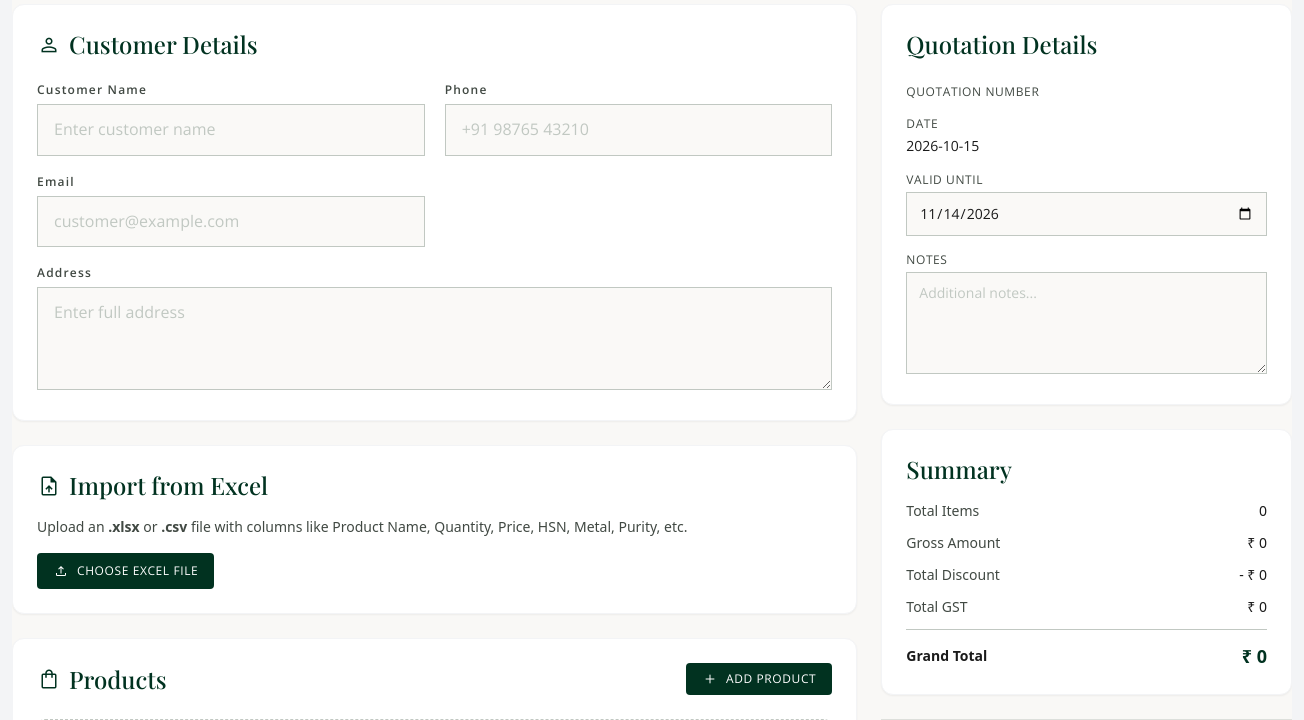
Scenario: Admin Create Quotation › SKU Lookup › changes from one SKU to another and updates product details
The width and height of the screenshot is (1304, 720).
Click the button "Add Product" at (759,679), box [686,663,832,695]
(page scrolled)
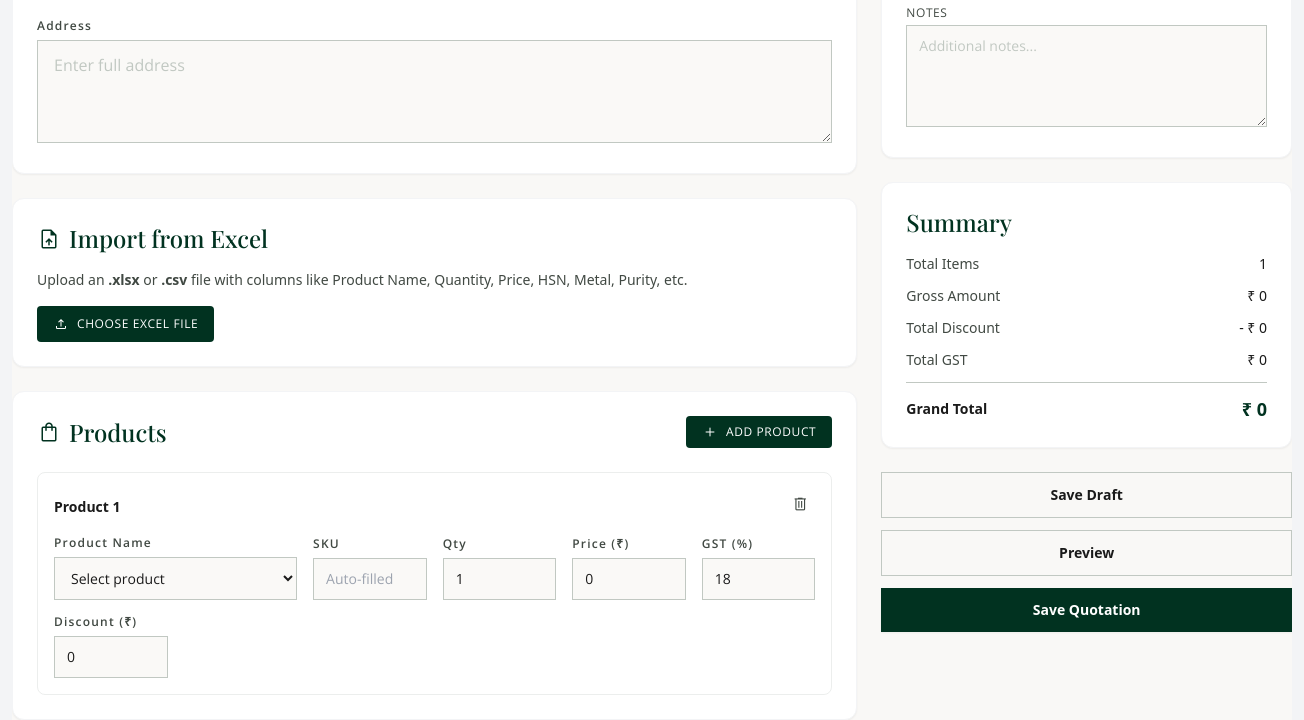
Type "SKU009" into the field with placeholder "Auto-filled" at (370,579), box [313,558,427,600]
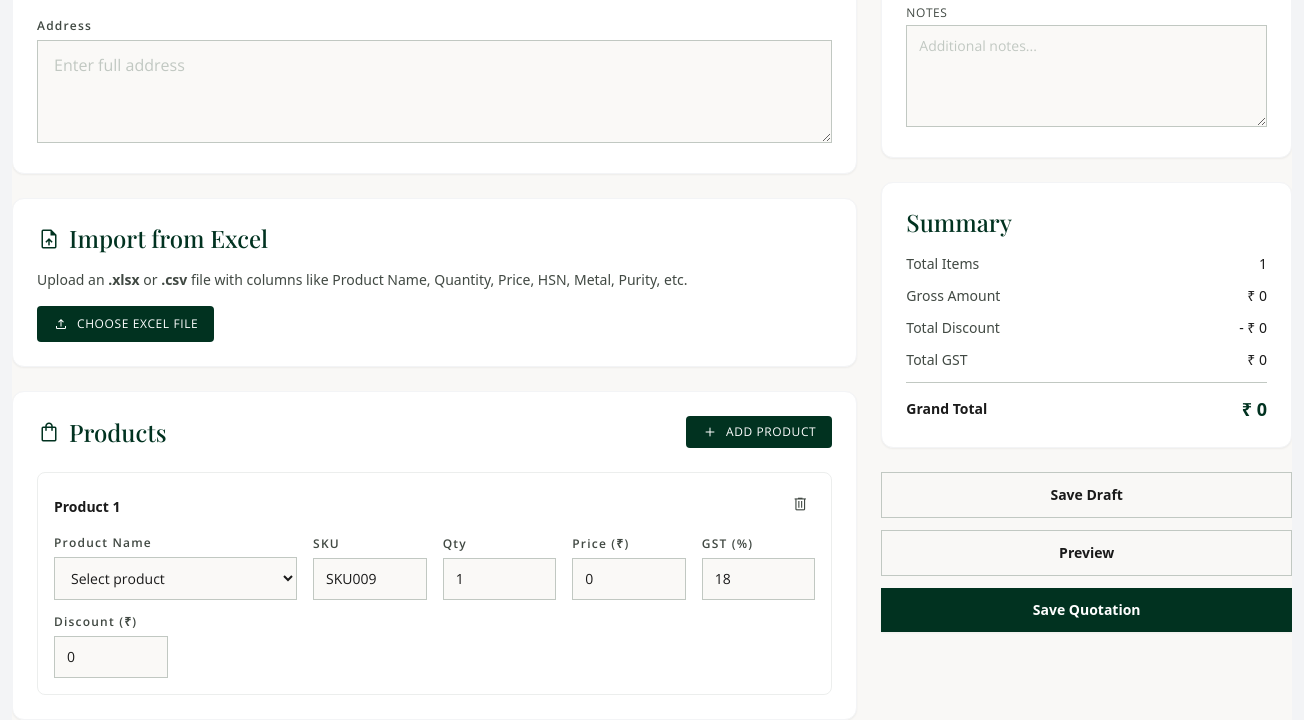
Leave the field with placeholder "Auto-filled", box [313,558,427,600]
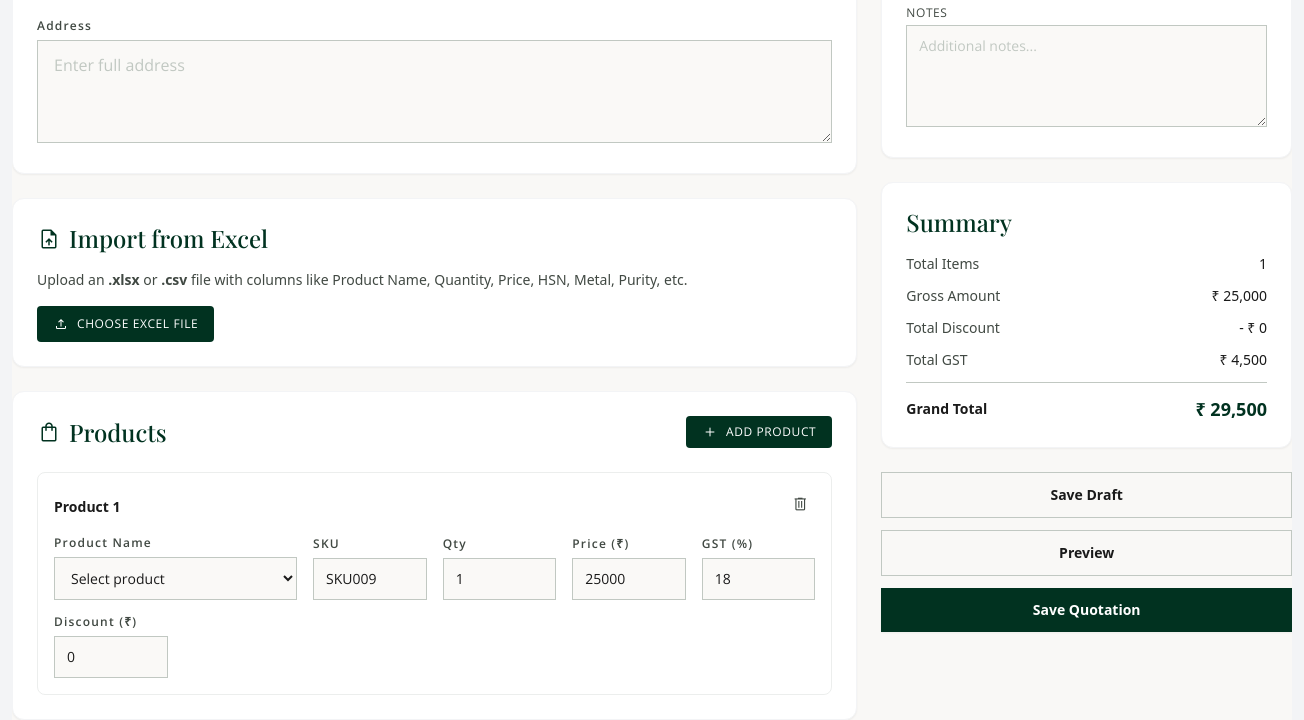
Expected: the number field with placeholder "Auto-filled" below "Price (₹)" holds "25000", [572,558,686,600]
Replace the text in the field with placeholder "Auto-filled" with "SKU010" at (370,579), box [313,558,427,600]
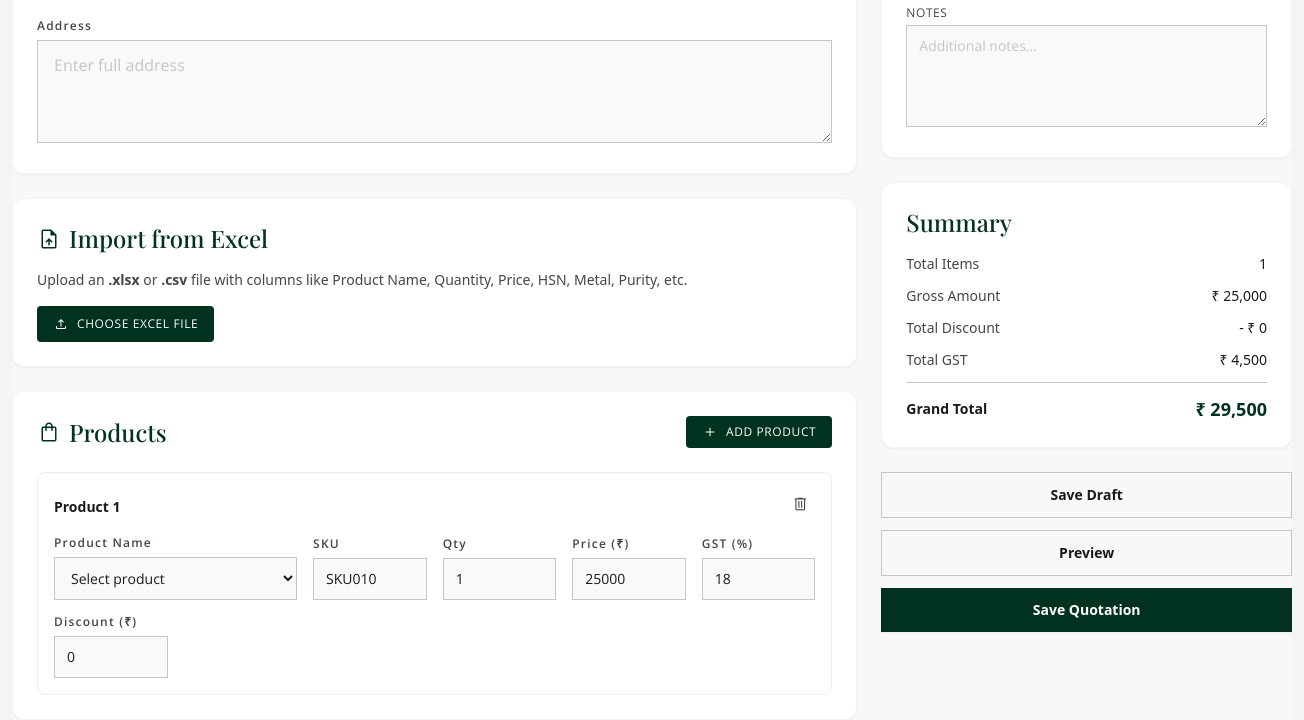
Leave the field with placeholder "Auto-filled", box [313,558,427,600]
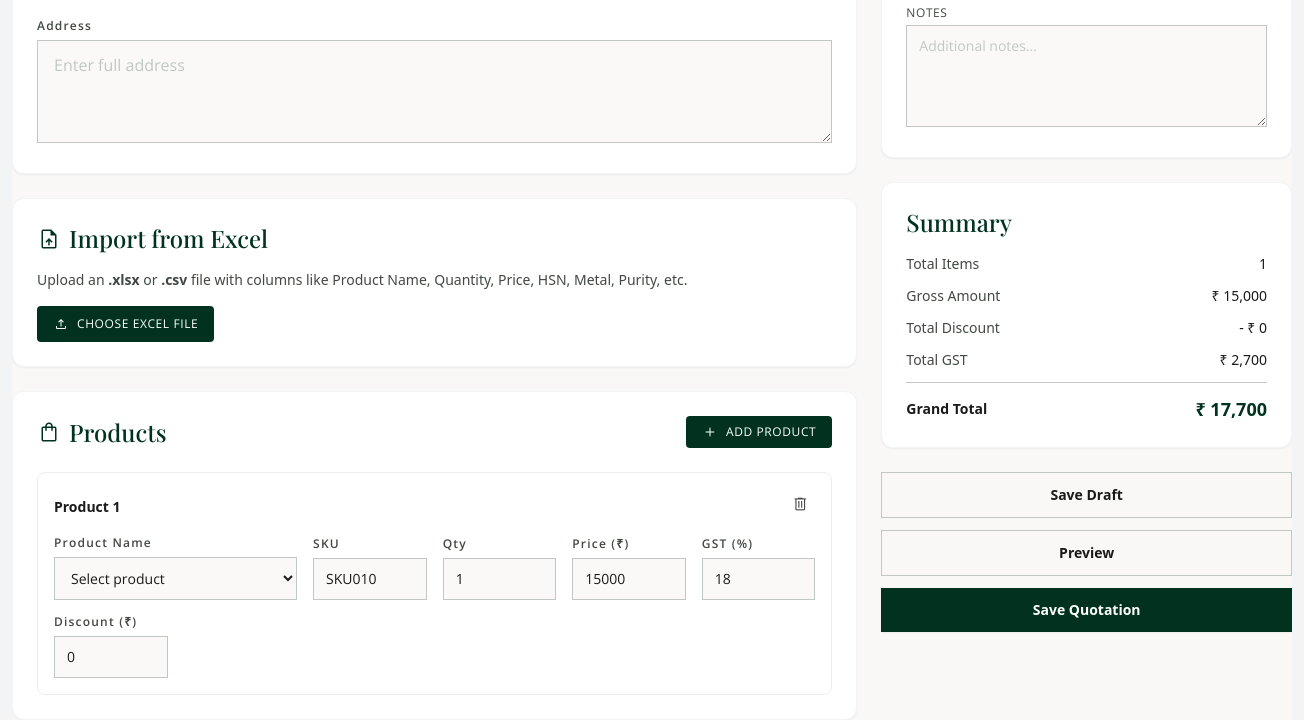
Expected: the number field with placeholder "Auto-filled" below "Price (₹)" holds "15000", [572,558,686,600]
